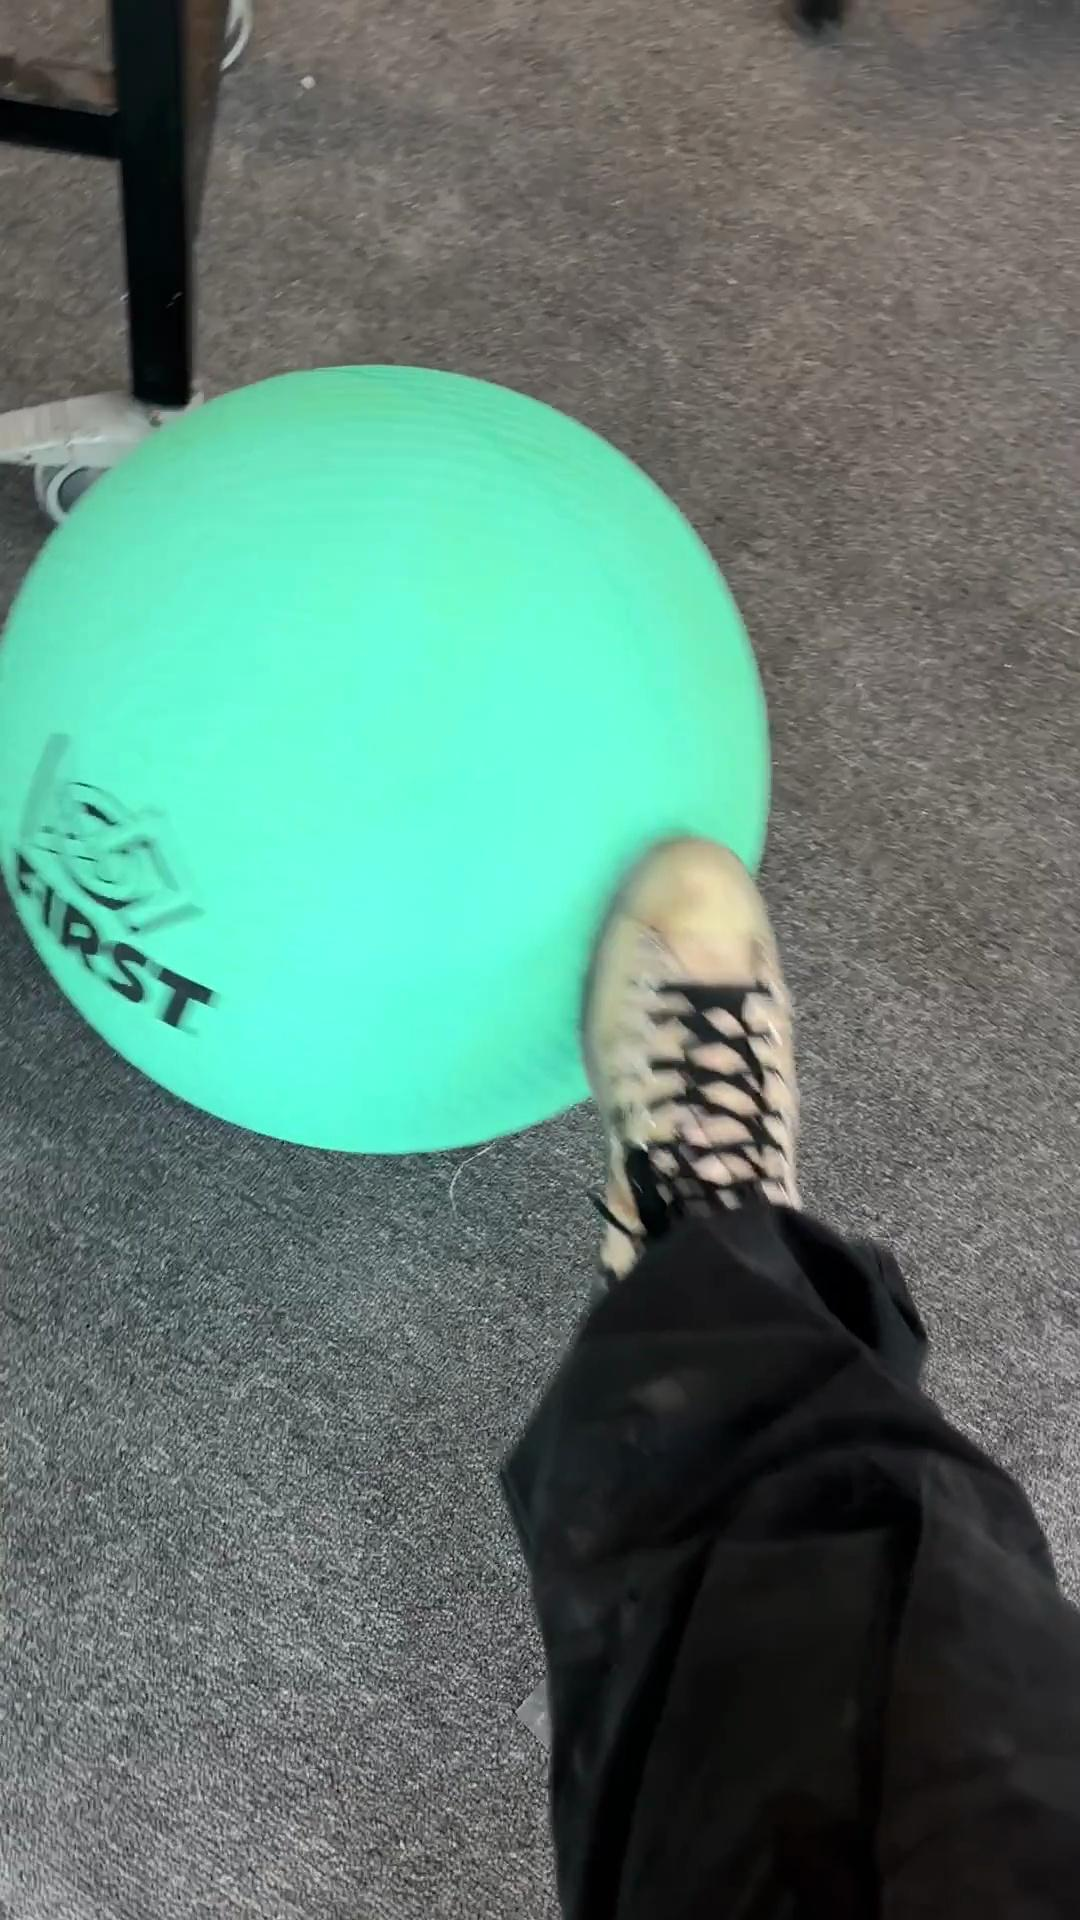ALGAE: (2, 360, 774, 1157)
